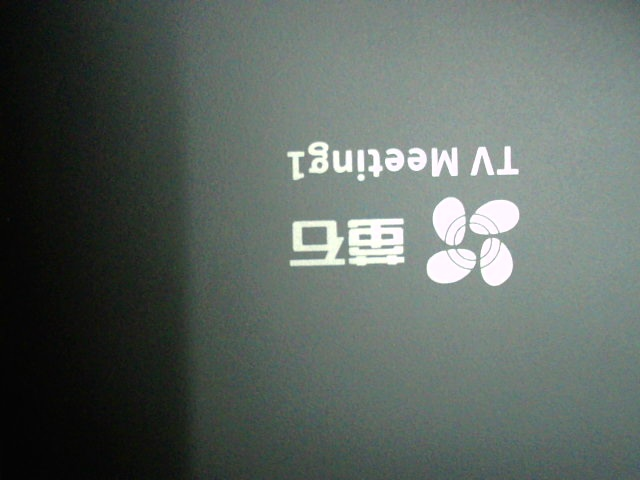BA_Yingshi: (280, 136, 523, 287)
